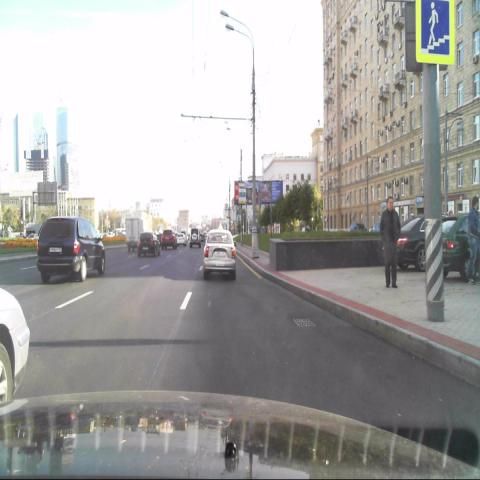6_6: (416, 0, 454, 65)
